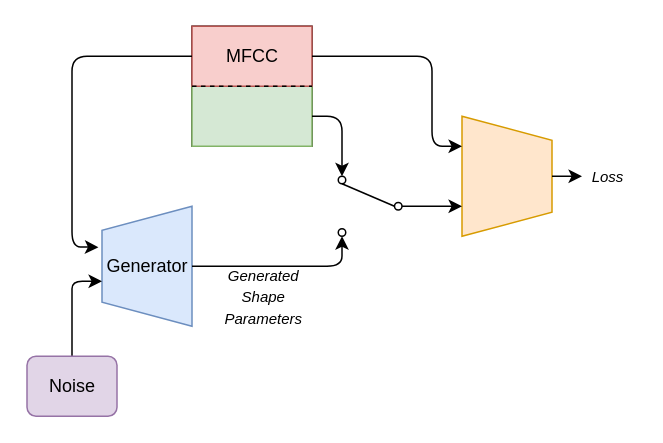
This 663x443 diagram has some shape labels left out. Here are the shapes that lost their labels. From the top down, the centre of each, then its label:
point (251, 115): Shape Parameters
point (506, 175): Critic
